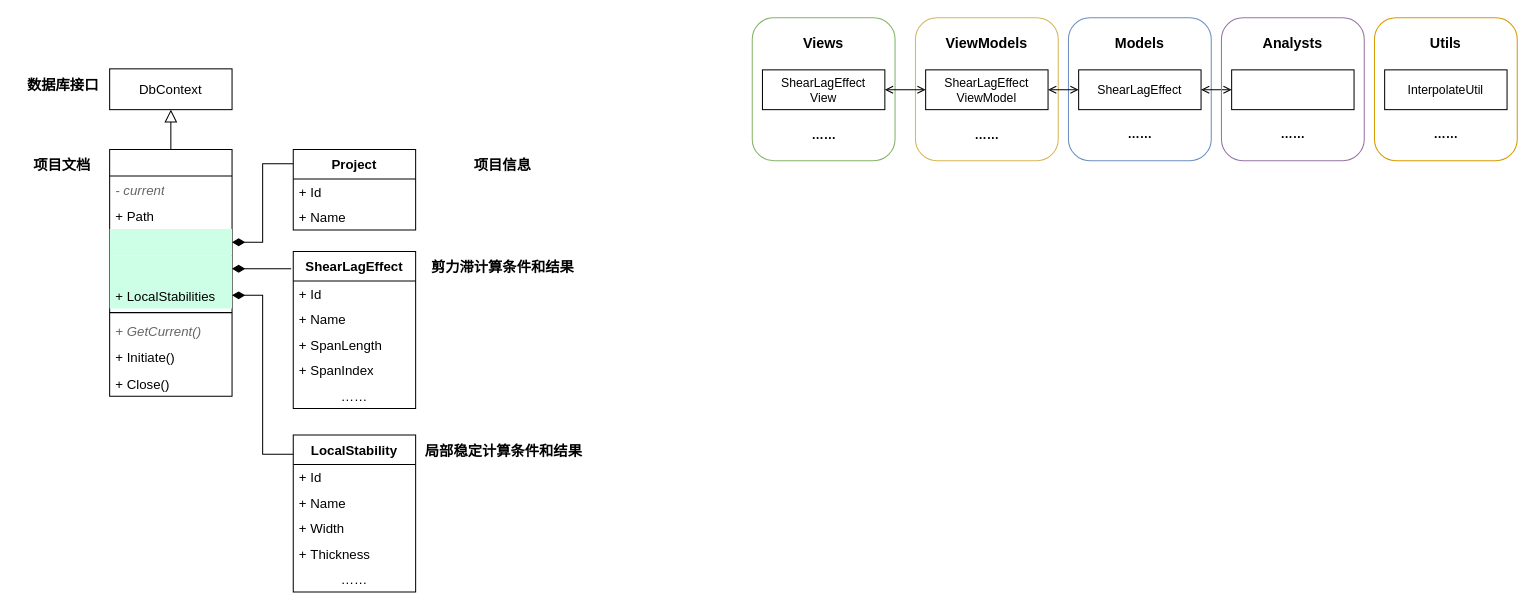
The diagram is 1535 pixels wide and 610 high, and some of its shapes have lost their labels. Here are the shapes that lost their labels. From the top down, the box of each, then its label:
(1231, 69, 1354, 110): ShearLagEffect Analyst
(109, 228, 232, 255): + Projects
(109, 255, 232, 282): + ShearLagEffects
(109, 148, 232, 396): Document
